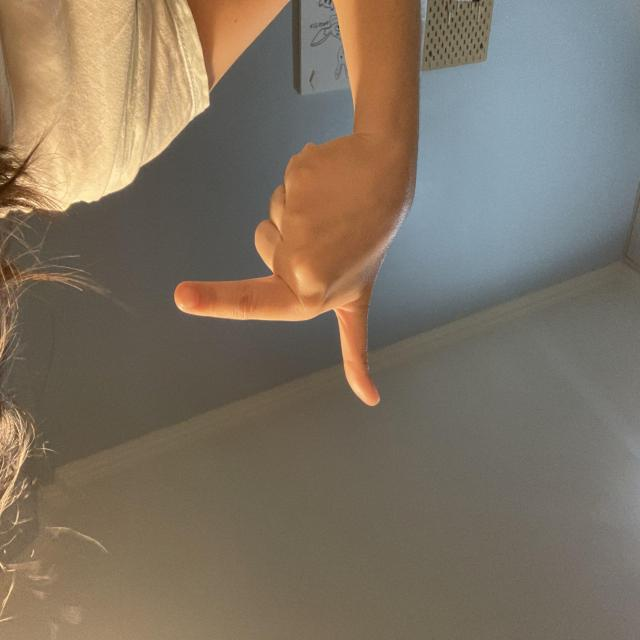G: (225, 233, 466, 507)
